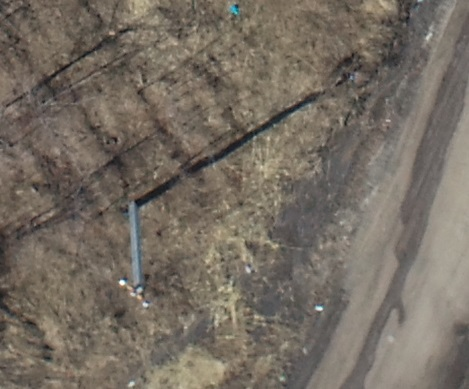opora: (114, 182, 181, 310)
